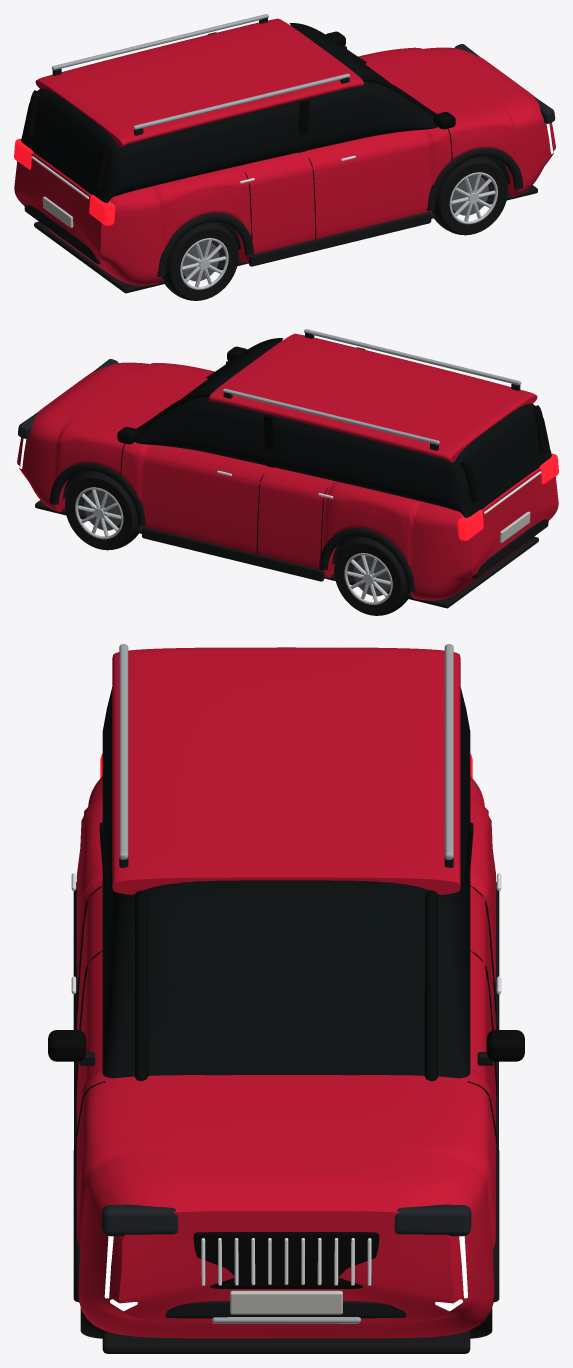
File: mahindra-xuv700.glb
3 renders of one model, top to bottom at view 1: azimuth 30°, elevation 25°; view 2: azimuth 150°, elevation 25°; view 3: azimuth 270°, elevation 25°, orthographic. The views are drawn at different scales.
Visible parts, largest first — view 1: Body, Glasshouse, Roof, Trim (×5), Tyre (×2), Silver (×2), Disc (×2), Pillar (×3), Taillamp (×2), Rim (×2), Plate, GlossBlack; view 2: Body, Glasshouse, Roof, Trim (×5), Tyre (×2), Silver (×2), Disc (×2), Pillar (×3), Taillamp (×2), Rim (×2), Plate; view 3: Body, Roof, Glasshouse, GlossBlack (×3), Trim (×2), Silver (×3), Pillar (×2), Headlamp (×2), Plate.
Boxes of the visible parts, <box> form: Body: <box>14,47,555,285</box>; Glasshouse: <box>21,26,437,202</box>; Roof: <box>35,18,363,147</box>; Trim (×5): <box>24,147,537,293</box>; Tyre (×2): <box>162,156,507,300</box>; Silver (×2): <box>52,14,350,129</box>; Disc (×2): <box>182,175,488,281</box>; Pillar (×3): <box>25,76,436,188</box>; Taillamp (×2): <box>14,138,115,225</box>; Rim (×2): <box>180,172,497,289</box>; Plate: <box>42,196,73,227</box>; GlossBlack: <box>298,100,309,152</box>; Body: <box>17,362,558,600</box>; Glasshouse: <box>135,341,551,517</box>; Roof: <box>209,333,537,462</box>; Trim (×5): <box>35,462,548,608</box>; Tyre (×2): <box>65,471,410,615</box>; Silver (×2): <box>222,329,521,444</box>; Disc (×2): <box>84,489,390,596</box>; Pillar (×3): <box>136,391,547,503</box>; Taillamp (×2): <box>457,453,558,540</box>; Rim (×2): <box>75,487,392,604</box>; Plate: <box>499,511,530,542</box>; Body: <box>77,776,495,1338</box>; Roof: <box>112,647,460,894</box>; Glasshouse: <box>102,687,470,1078</box>; GlossBlack (×3): <box>48,1030,524,1288</box>; Trim (×2): <box>102,1301,470,1353</box>; Silver (×3): <box>119,644,453,1323</box>; Pillar (×2): <box>135,890,437,1081</box>; Headlamp (×2): <box>101,1204,471,1236</box>; Plate: <box>230,1290,342,1314</box>.
Bounding box in the file's own units: 4.72 × 1.79 × 2.11.
